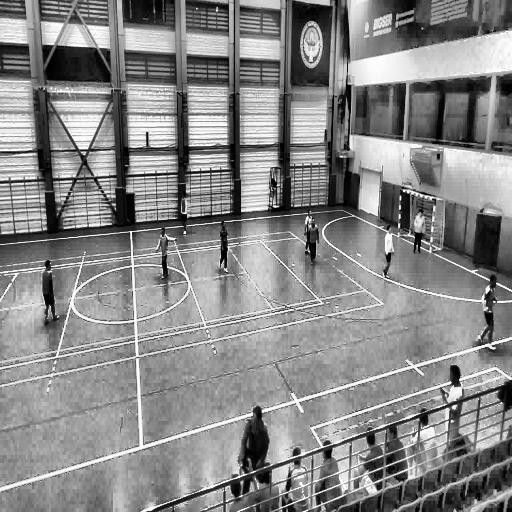player: (240, 406, 270, 481), (478, 274, 496, 347), (42, 259, 60, 326), (156, 227, 178, 278), (382, 224, 393, 278), (218, 220, 229, 272), (307, 218, 318, 266), (413, 209, 424, 253), (303, 208, 313, 254), (180, 192, 189, 235)
